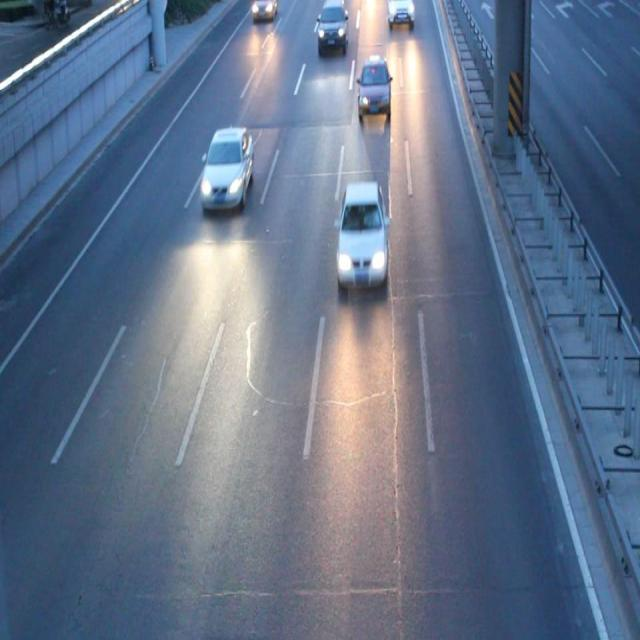car: (335, 183, 389, 289), (202, 128, 254, 210), (356, 56, 391, 120), (317, 1, 347, 51), (388, 1, 413, 26)
